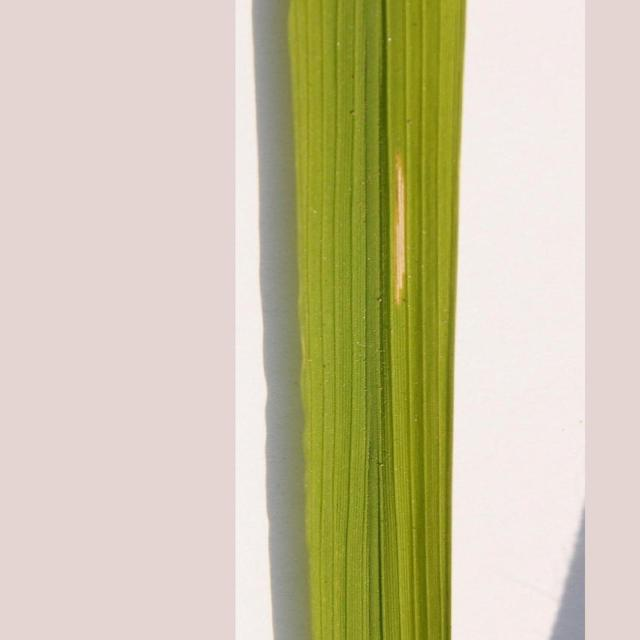Bacterial leaf blight: (378, 153, 432, 311)
